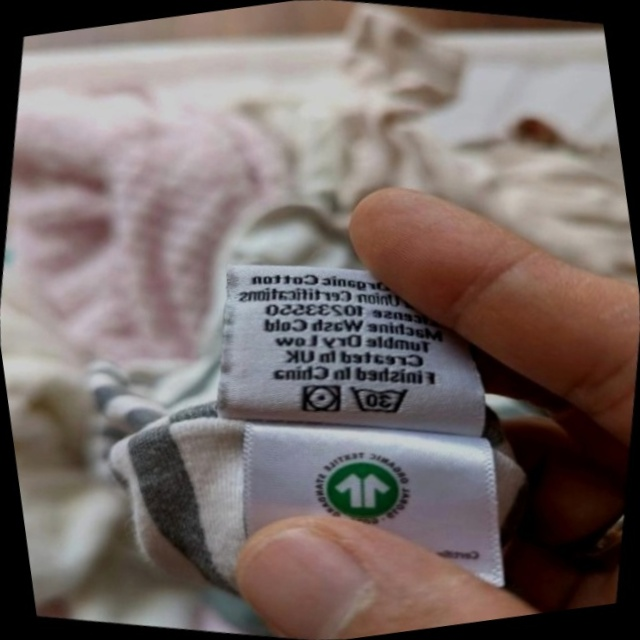30C: (339, 369, 420, 430)
tumble_dry_low: (291, 372, 351, 426)
